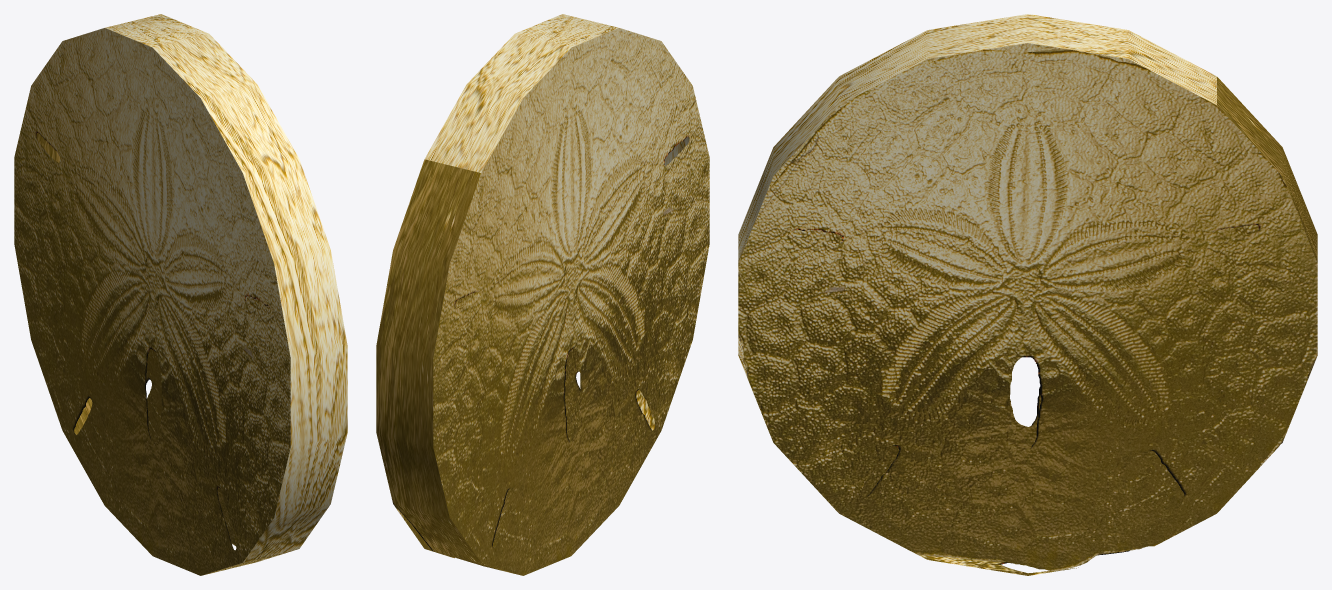
The model's file is Sand_Dollar.FBX.
3 renders of one model, left to right at view 1: azimuth 30°, elevation 25°; view 2: azimuth 150°, elevation 25°; view 3: azimuth 270°, elevation 25°, orthographic. The views are drawn at different scales.
Parts seen in each view (by area): view 1: Sand_Dollar; view 2: Sand_Dollar; view 3: Sand_Dollar.
Boxes of the visible parts, x1=… form: Sand_Dollar: x1=14, y1=14, x2=347, y2=575; Sand_Dollar: x1=376, y1=14, x2=709, y2=575; Sand_Dollar: x1=738, y1=14, x2=1317, y2=575.
Size of the model in its own units: 7 by 60 by 59.09.
